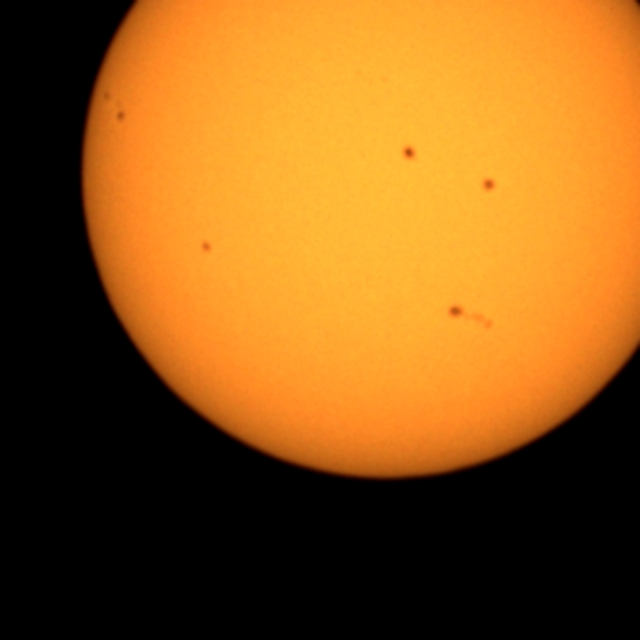sunspot: (447, 302, 498, 332), (101, 87, 128, 125), (446, 303, 467, 322), (480, 176, 498, 195), (400, 144, 418, 163), (198, 238, 215, 256), (114, 108, 128, 126)
